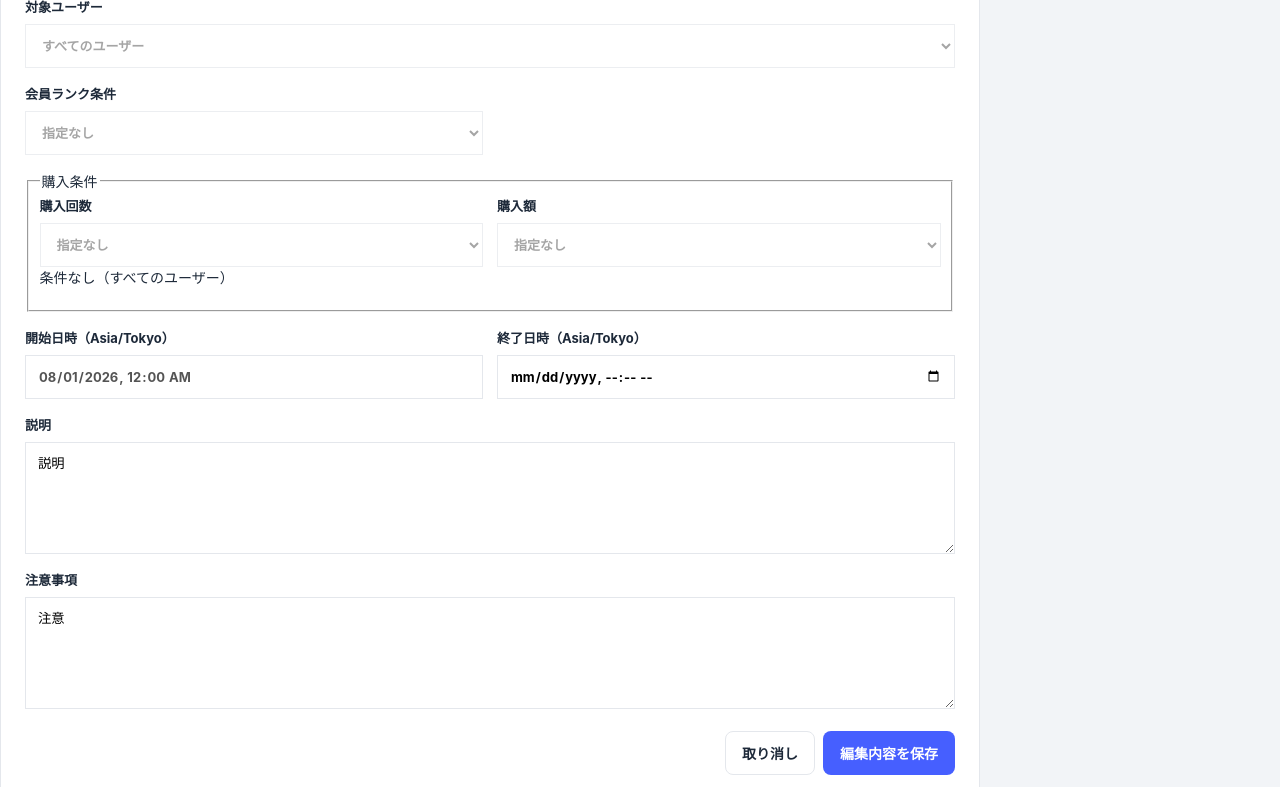
Scenario: Gacha lifecycle editing › shows mapped publish errors without Request ID or internal code
(page scrolled)
Click the button "編集内容を保存": coordinates (889, 753) [823,731,955,775]
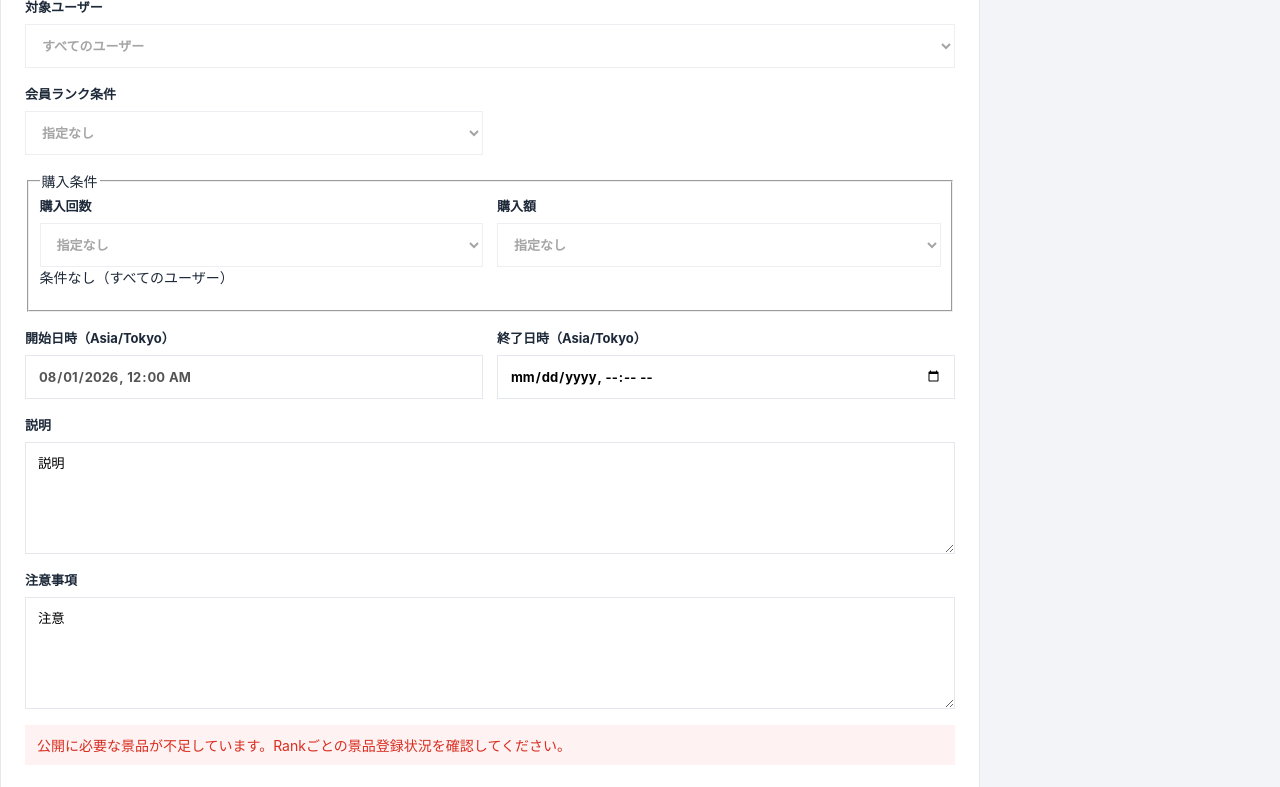
Expected: the text "公開に必要な景品が不足しています。Rankごとの景品登録状況を確認してください。" is shown, [25,725,955,765]
